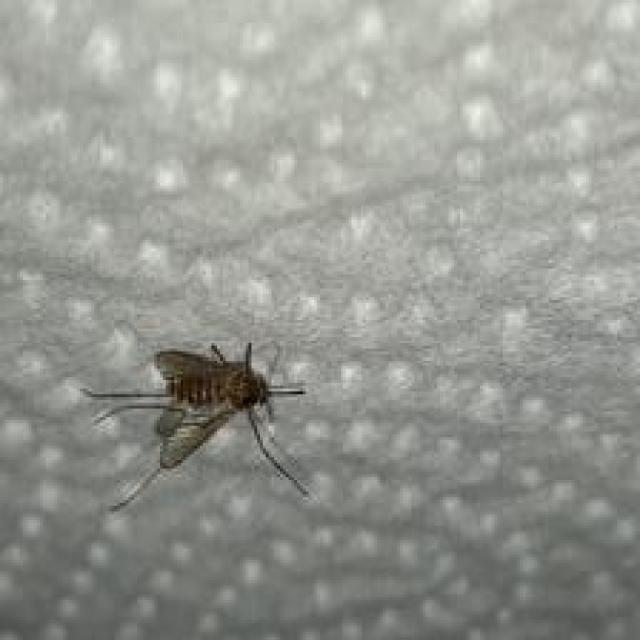Culex: (80, 338, 311, 513)
